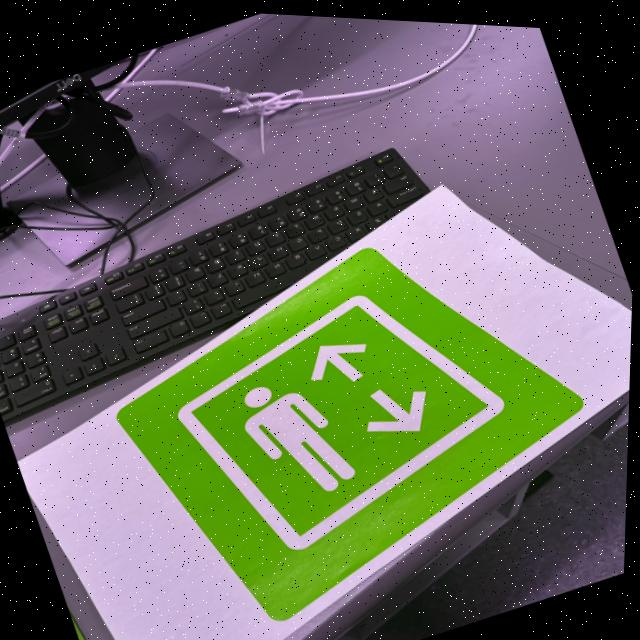elevator: (115, 248, 592, 626)
